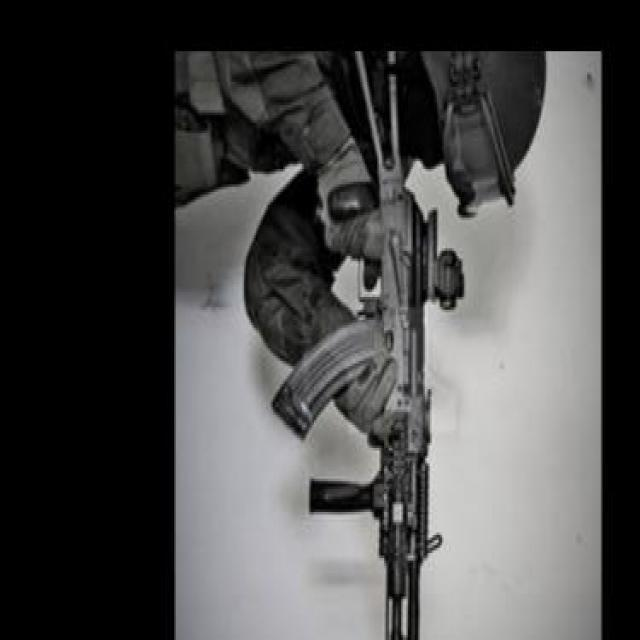weapon: (268, 50, 466, 640)
